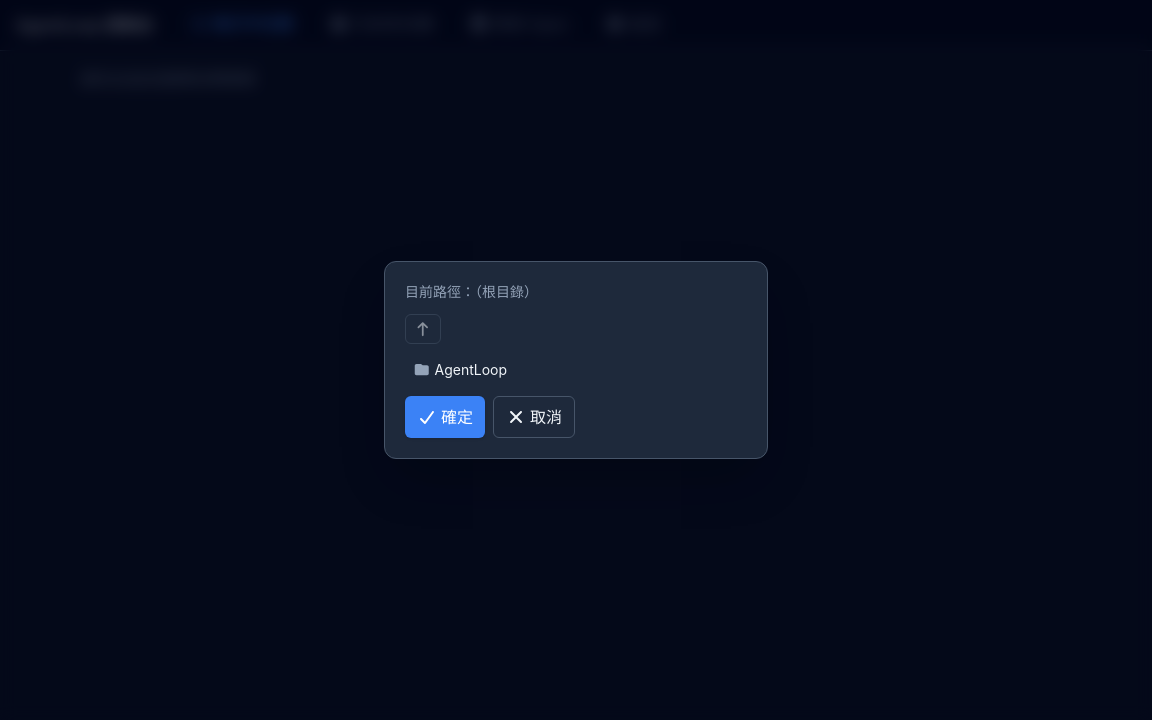
App 分頁 › 純圖示按鈕以滑鼠停留提示與無障礙名稱呈現原本文字
The image size is (1152, 720).
Expected: the button named "上一層" is empty, [405,314,440,344]
Expected: the button named "上一層" is disabled, [405,314,440,344]
Click the button "AgentLoop". click: (471, 370)
box: [405,356,747,384]
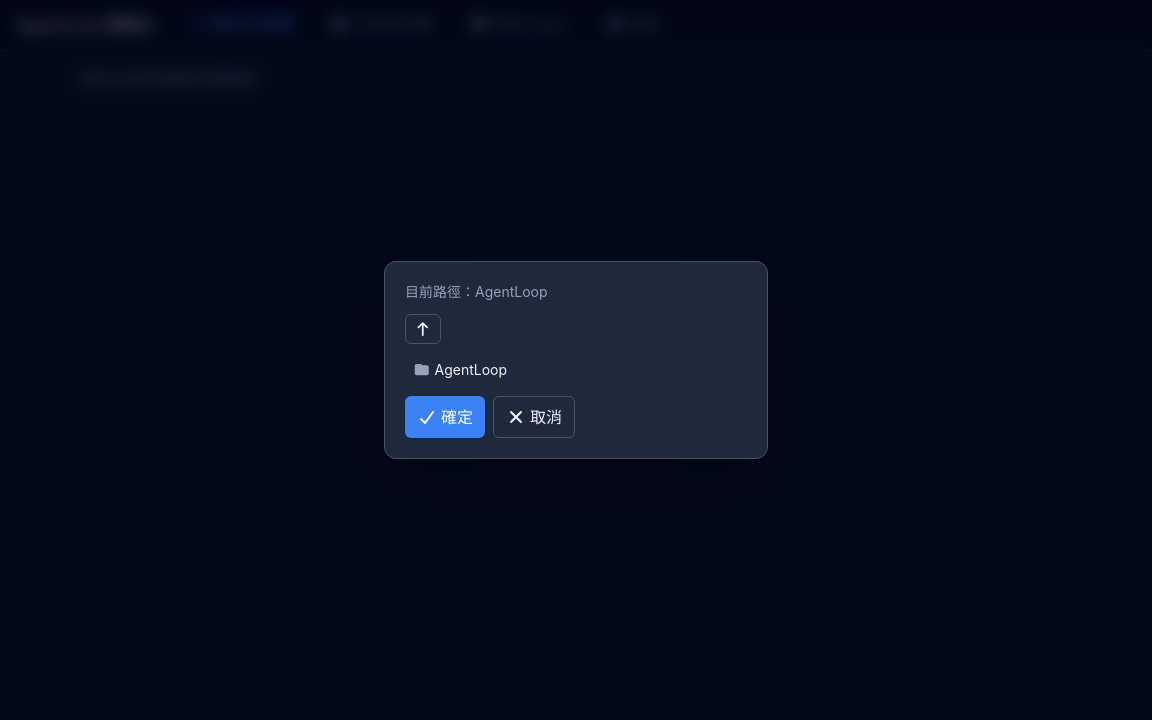
Expected: the button named "上一層" is empty, [405,314,440,344]
Expected: the button named "上一層" is enabled, [405,314,440,344]
